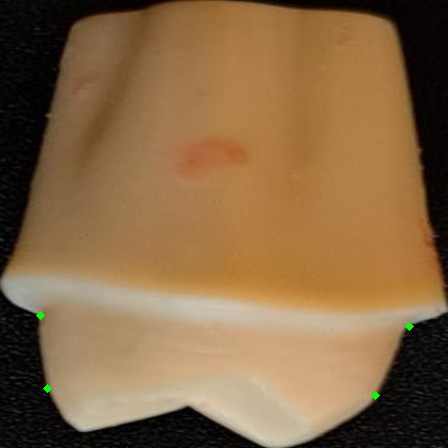coin_1: (40, 315, 60, 335)
coin_2: (47, 388, 67, 408)
coin_3: (409, 326, 429, 346)
coin_4: (375, 395, 395, 415)
